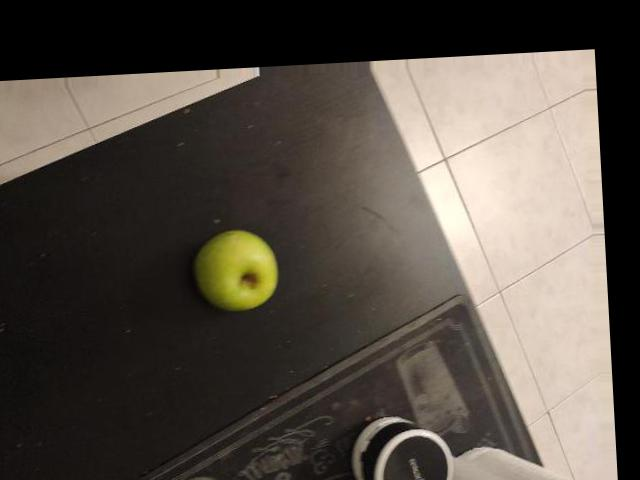apple: (337, 103, 447, 244)
